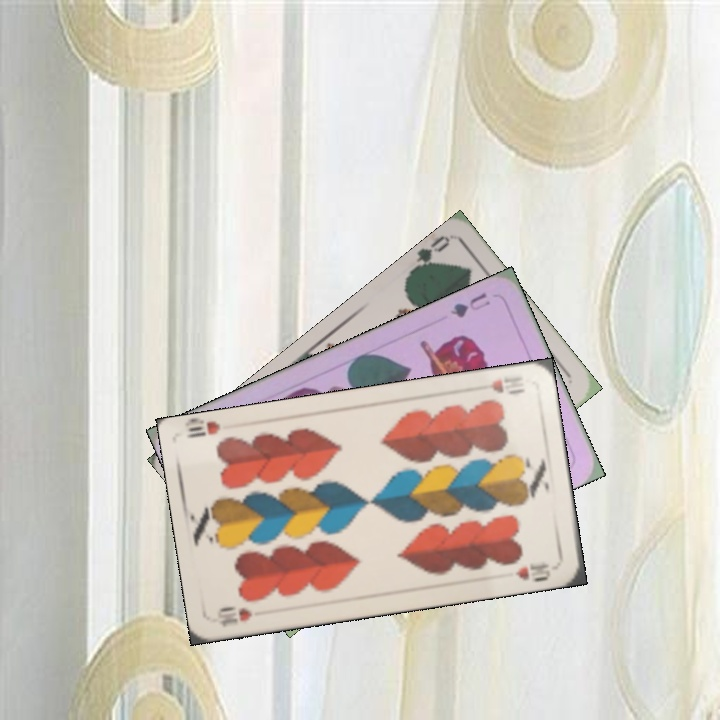GO: (404, 232, 453, 279)
GU: (446, 288, 493, 321)
H10: (470, 372, 527, 398), (213, 602, 255, 629)
